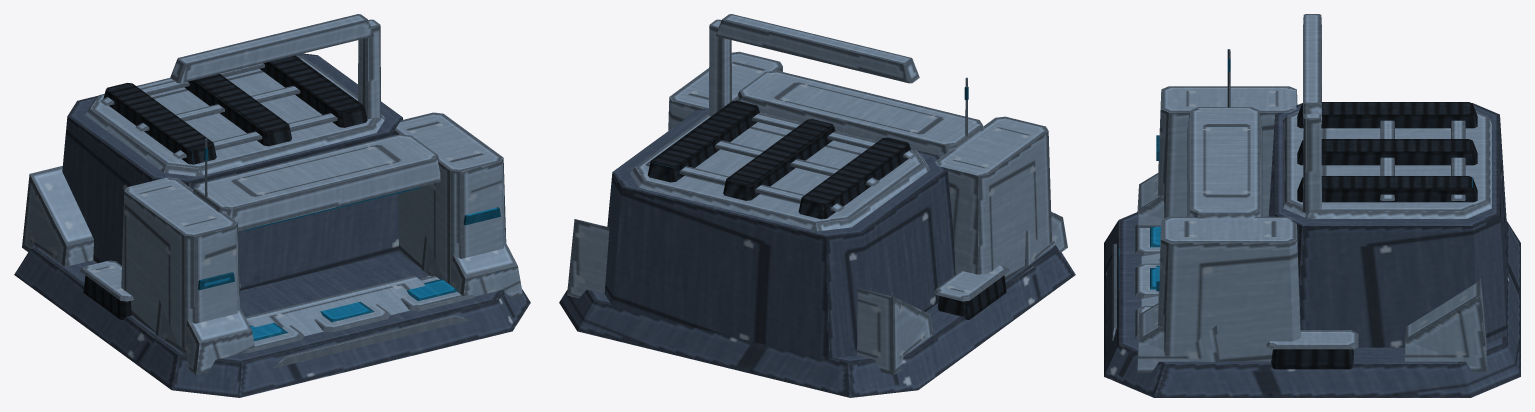
File: building-repair_depot.fbx
The picture shows the model from 3 angles, left to right: view 1: azimuth 30°, elevation 25°; view 2: azimuth 150°, elevation 25°; view 3: azimuth 270°, elevation 25°; orthographic projection.
Visible parts, largest first — view 1: building-repair_depot; view 2: building-repair_depot; view 3: building-repair_depot.
Part boxes in pixels (<box>): building-repair_depot: <box>14,14,530,397</box>; building-repair_depot: <box>559,14,1075,397</box>; building-repair_depot: <box>1104,14,1520,397</box>.
Size of the model in its own units: 2184 by 1450 by 2184.
Materials: 1 (1 with a texture image).
